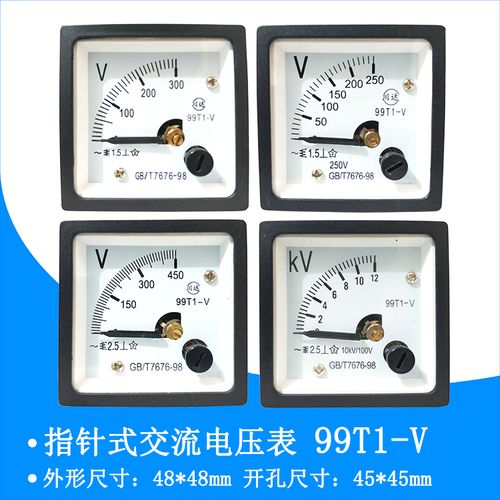pointer: (73, 36, 240, 199), (273, 233, 435, 396), (270, 35, 431, 199), (71, 234, 235, 394)
